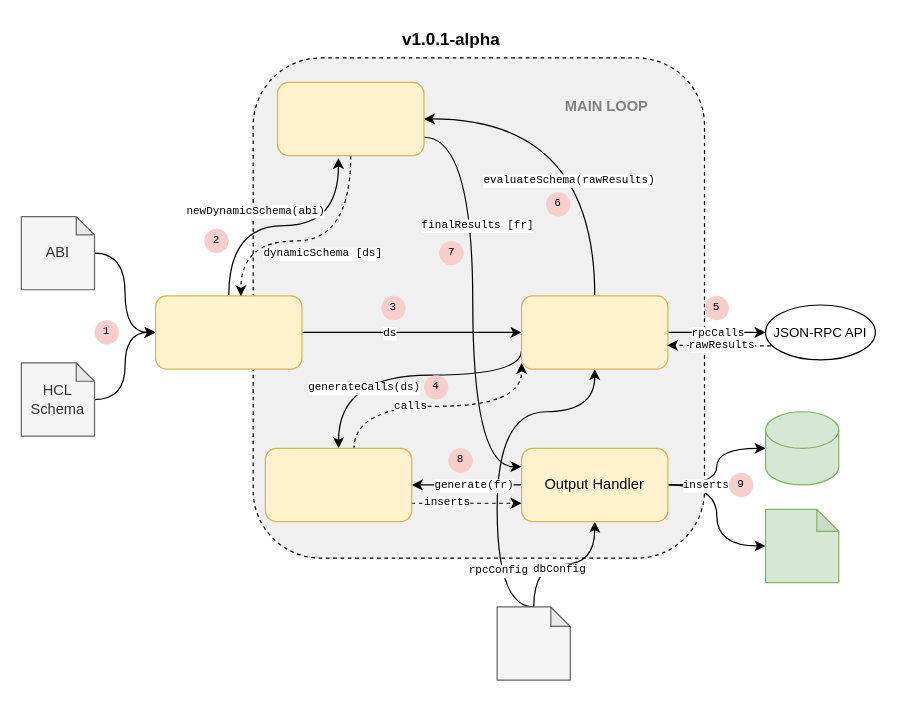
The diagram is 897 pixels wide and 702 high, and some of its shapes have lost their labels. Here are the shapes that lost their labels. From the top down, the box of each, then its label:
(276, 81, 424, 156): DSL
(154, 295, 302, 369): Main
(520, 295, 668, 369): Chainservice
(764, 411, 839, 485): SQL DB
(264, 447, 412, 522): Generator
(764, 508, 839, 583): CSV
(496, 606, 570, 680): YAML Config
